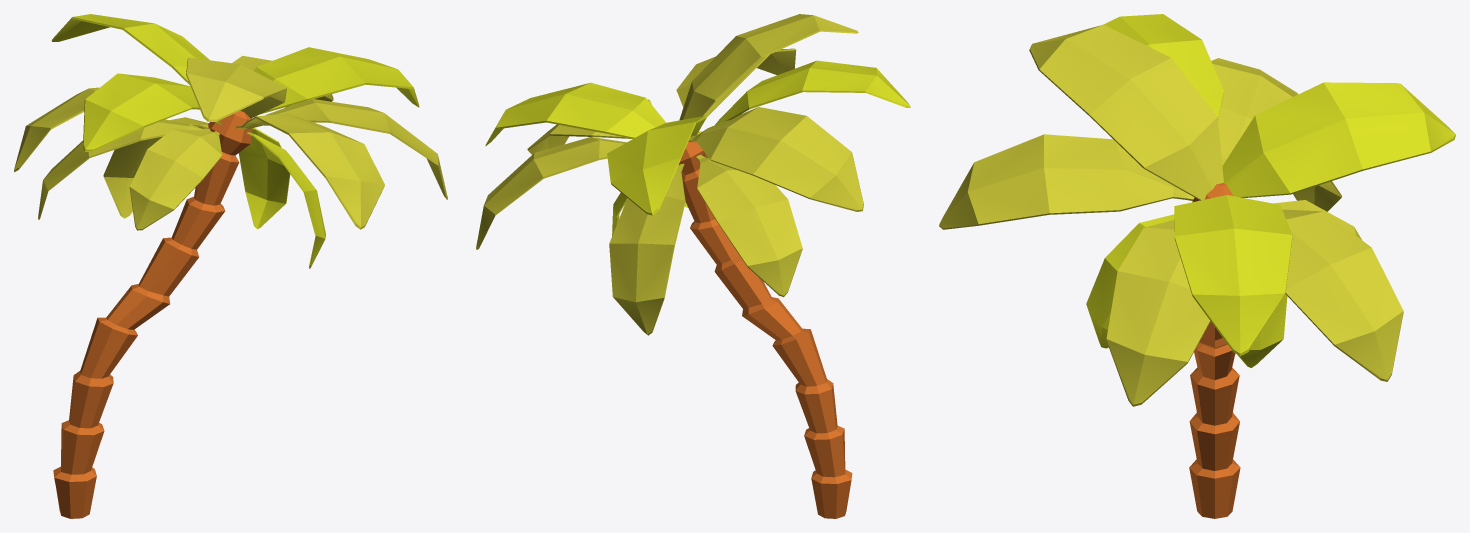
File: Tree_10_Spring.fbx
The picture shows the model from 3 angles, left to right: view 1: azimuth 30°, elevation 25°; view 2: azimuth 150°, elevation 25°; view 3: azimuth 270°, elevation 25°; orthographic projection. The views are drawn at different scales.
Parts seen in each view (by area): view 1: Tree_10_p2_Spring, Tree_10_p1_Spring; view 2: Tree_10_p2_Spring, Tree_10_p1_Spring; view 3: Tree_10_p2_Spring, Tree_10_p1_Spring.
Part boxes in pixels (box(x1,y1,x2,y2)): Tree_10_p2_Spring: box(14, 14, 447, 268); Tree_10_p1_Spring: box(53, 110, 252, 518); Tree_10_p2_Spring: box(476, 14, 910, 335); Tree_10_p1_Spring: box(678, 142, 852, 518); Tree_10_p2_Spring: box(939, 14, 1455, 406); Tree_10_p1_Spring: box(1189, 183, 1240, 518).
Size of the model in its own units: 357 by 391 by 351.
